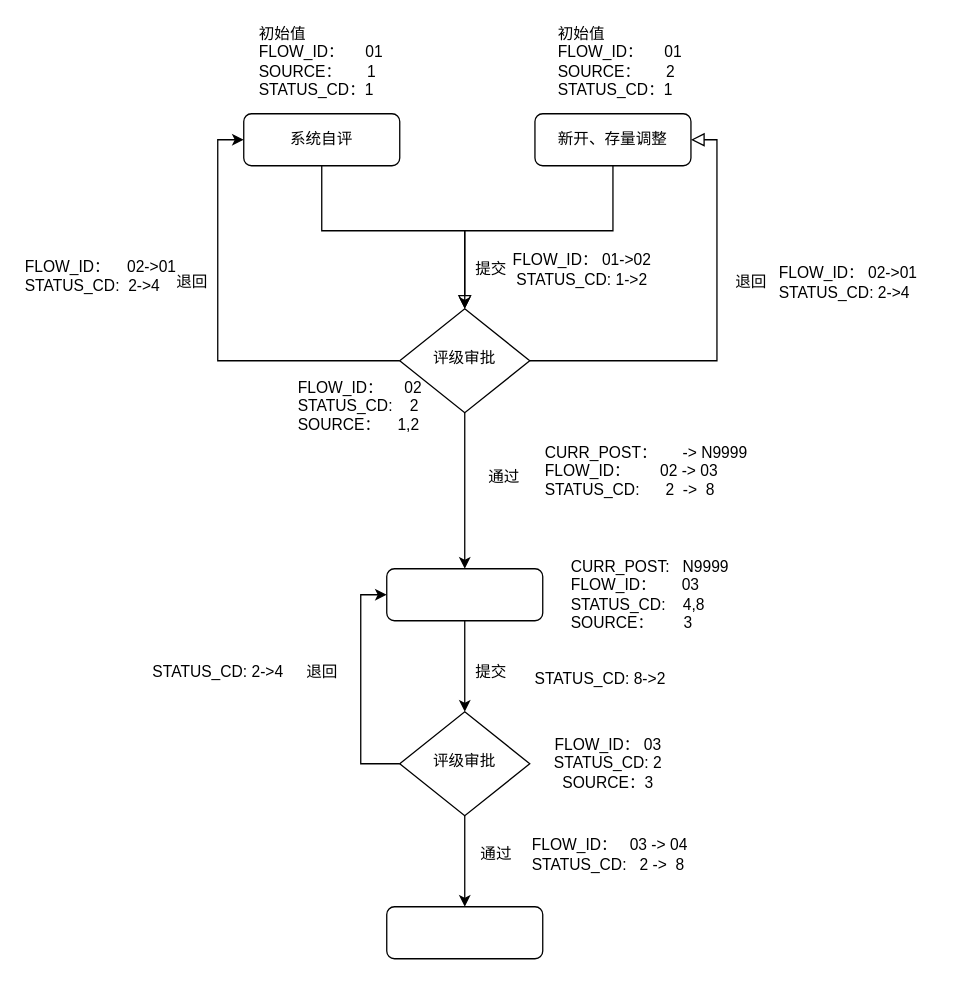
This 954x981 diagram has some shape labels left out. The shapes that lost their labels are listed below. From the top down, each one's centre as x and y in pixels, then its label:
the point at 464,594: 再调整
the point at 464,932: 历史评级信息
